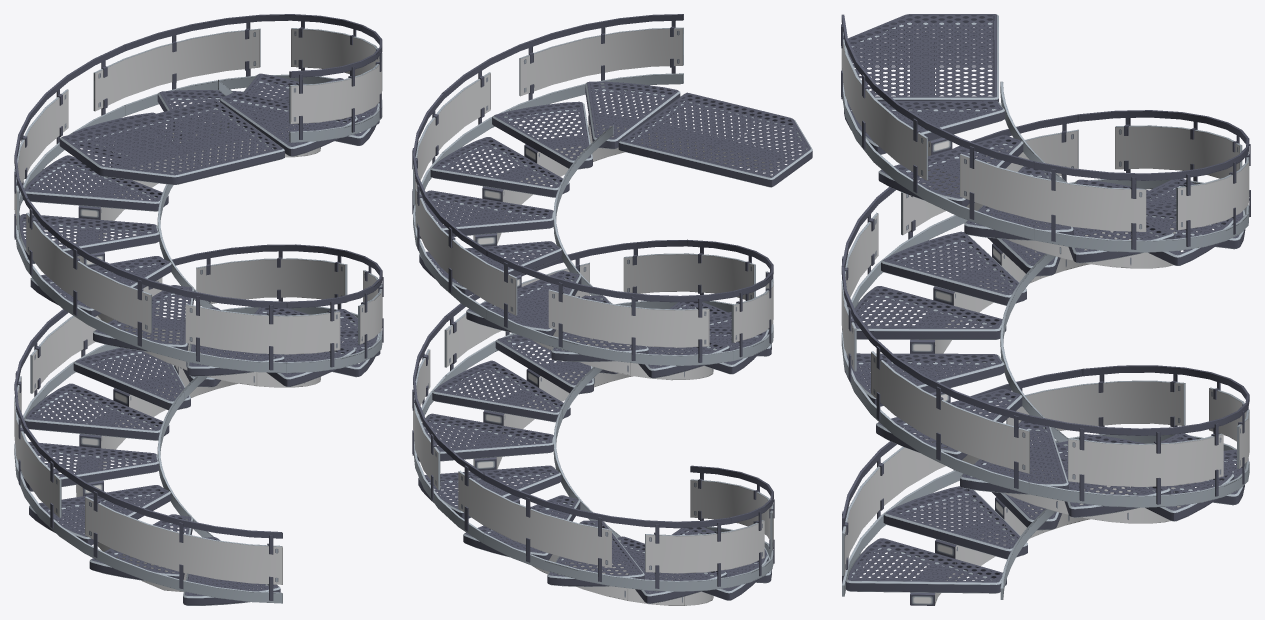
File: Interior_Stair_Circular_01.FBX
3 views of the same model, side by side, from view 1: azimuth 30°, elevation 25°; view 2: azimuth 150°, elevation 25°; view 3: azimuth 270°, elevation 25° (orthographic). The views are drawn at different scales.
Visible parts, largest first — view 1: Interior_Stair_Circular_01; view 2: Interior_Stair_Circular_01; view 3: Interior_Stair_Circular_01.
Boxes of the visible parts, <box> form: Interior_Stair_Circular_01: <box>14,14,383,605</box>; Interior_Stair_Circular_01: <box>412,14,812,605</box>; Interior_Stair_Circular_01: <box>841,14,1250,605</box>.
Size of what is drawn, in the model's own units: 5.15 by 8.21 by 5.13.
